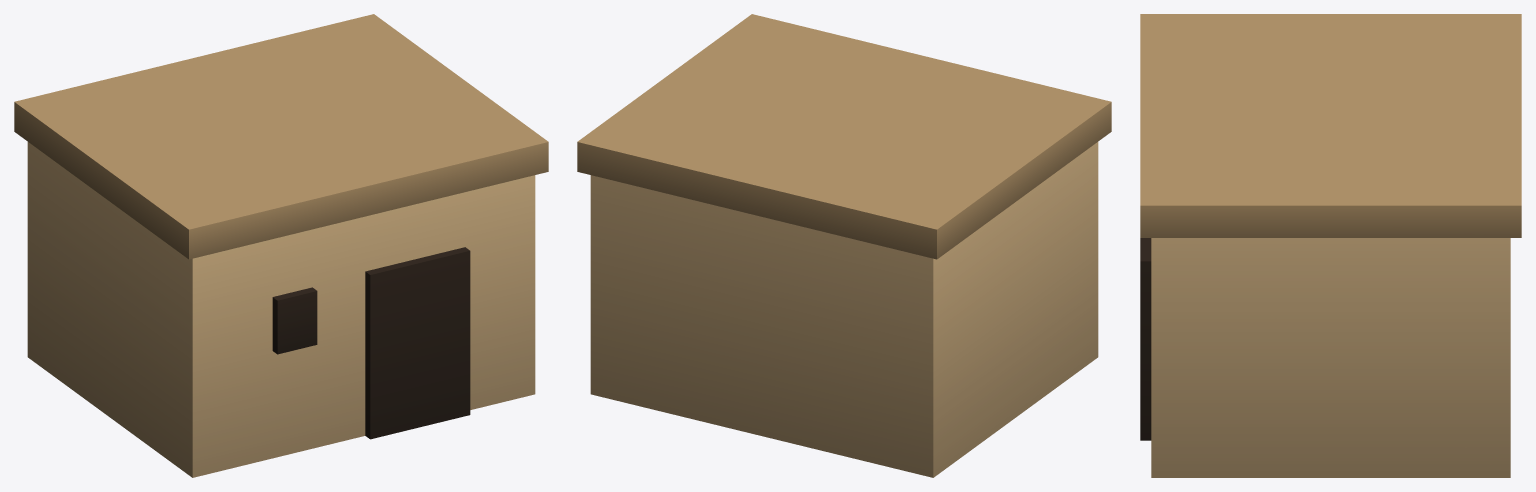
Rendered from house_MA_2b.glb.
3 renders of one model, left to right at view 1: azimuth 30°, elevation 25°; view 2: azimuth 150°, elevation 25°; view 3: azimuth 270°, elevation 25°, orthographic. The views are drawn at different scales.
Parts seen in each view (by area): view 1: Body; view 2: Body; view 3: Body.
Boxes of the visible parts, <box> form: Body: <box>14,14,548,477</box>; Body: <box>577,14,1111,477</box>; Body: <box>1140,14,1521,477</box>.
Bounding box in the file's own units: 1.26 × 0.85 × 1.06.
1 material, 1 textured.
